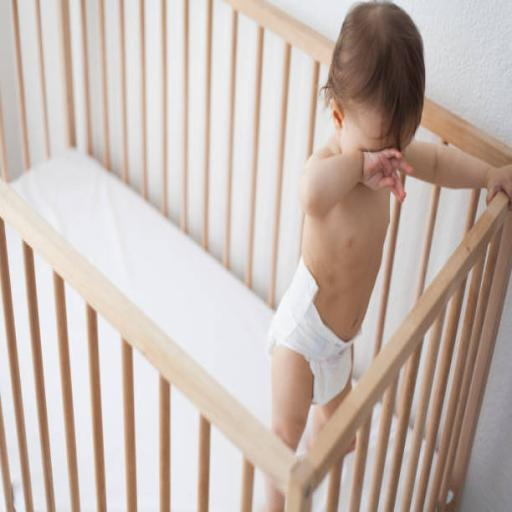baby: (268, 2, 511, 450)
crib: (0, 0, 511, 511)
